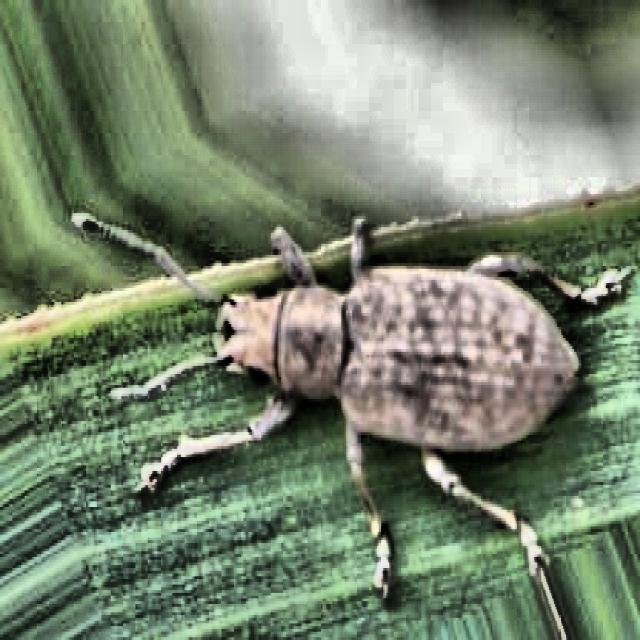Stink bug: (101, 179, 600, 544)
